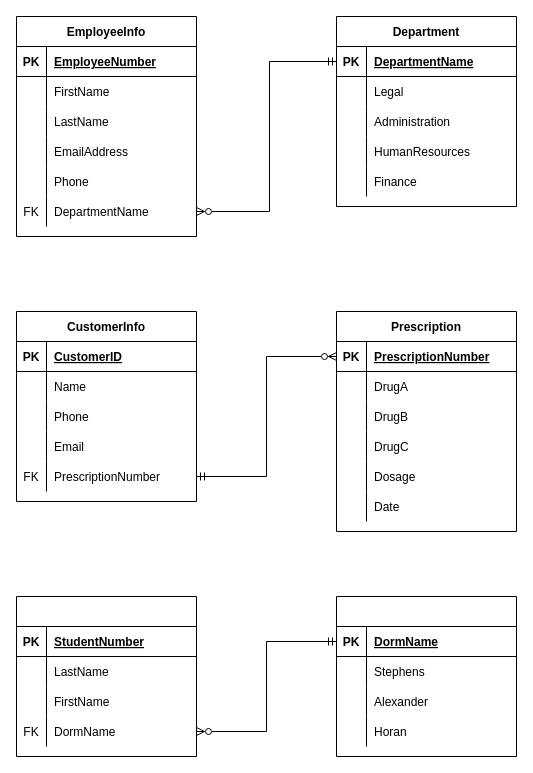
The diagram is 533 pixels wide and 773 high, and some of its shapes have lost their labels. The shapes that lost their labels are listed below. From the top down, each one's box as (x1, y1, x2, y2) in pixels, then its label:
(16, 596, 196, 756): StudentInfo
(336, 596, 516, 756): DormInfo
